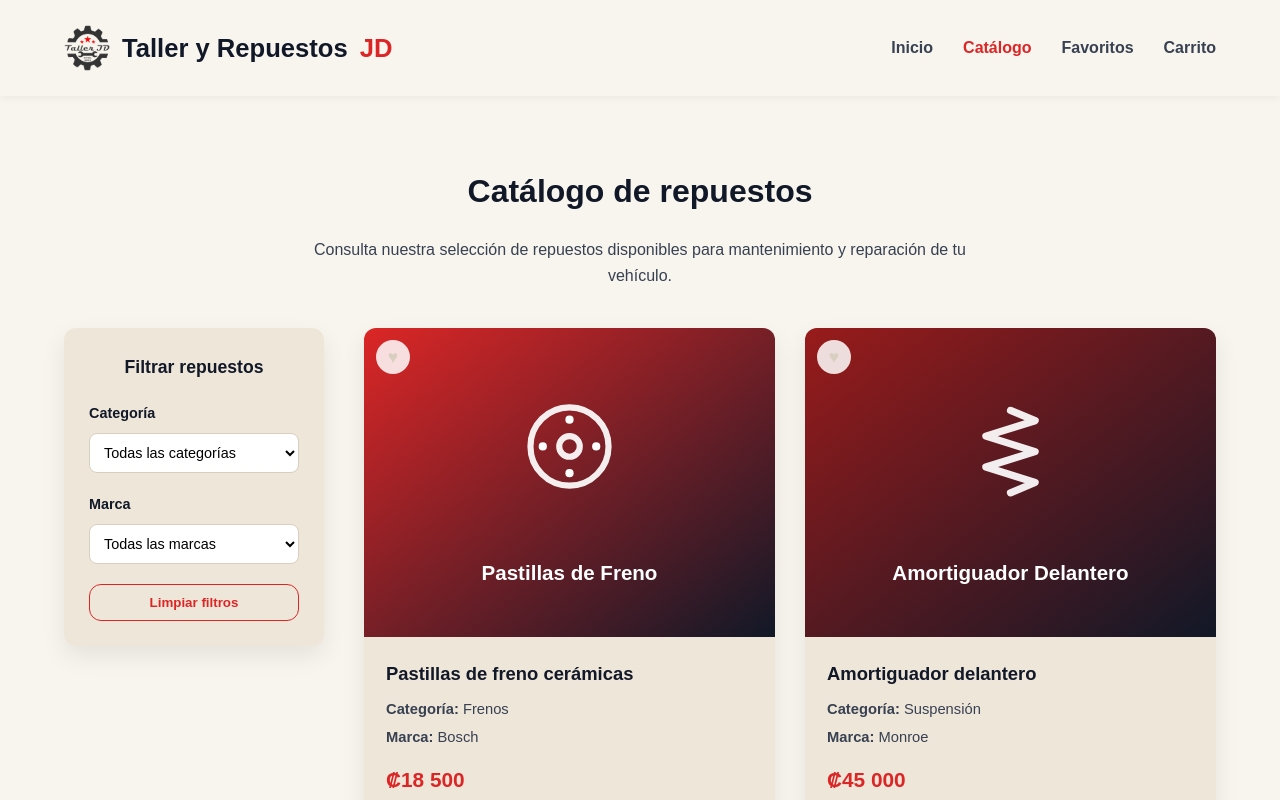
it: Catálogo de repuestos › combinar categoría y marca sin coincidencias muestra un mensaje
The image size is (1280, 800).
Select "Frenos" in the dropdown labelled "Categoría" at coordinates (194, 453), box x1=89 y1=433 x2=299 y2=473
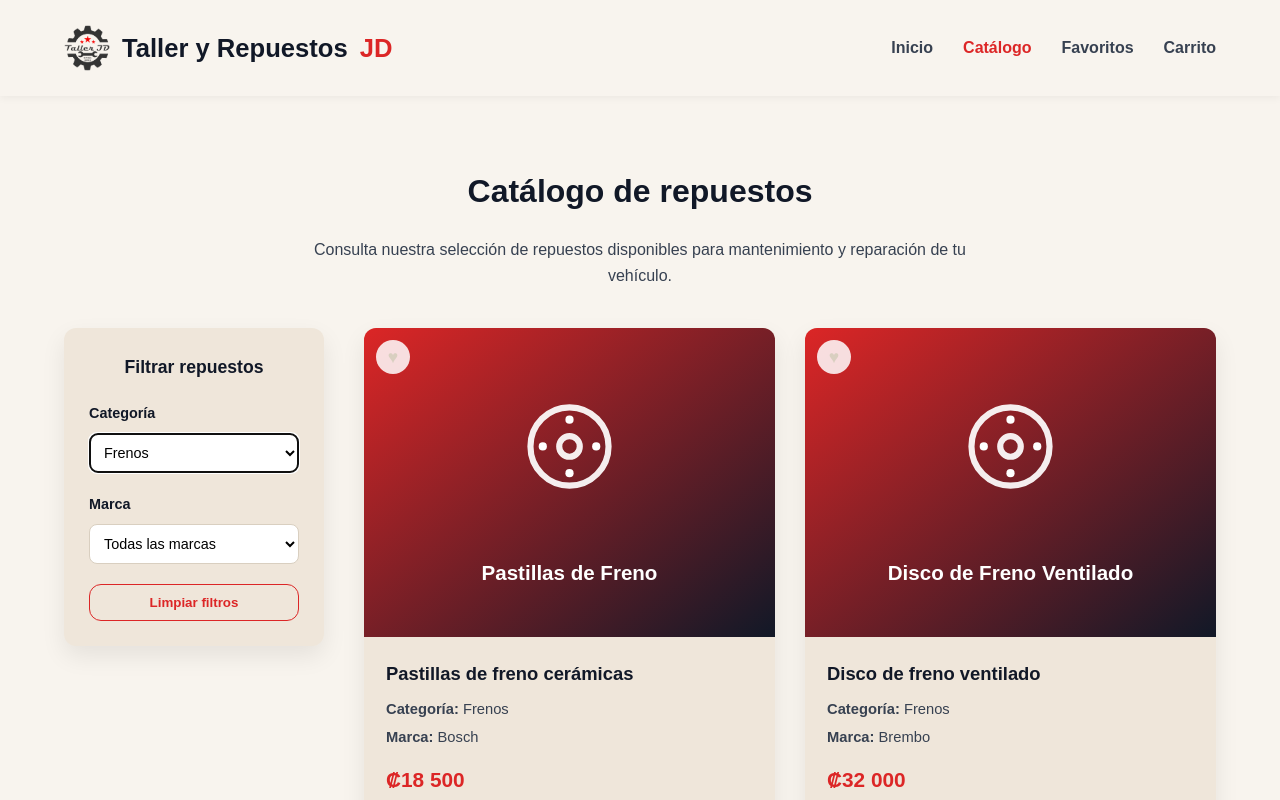
Select "Michelin" in the dropdown labelled "Marca" at coordinates (194, 544), box x1=89 y1=524 x2=299 y2=564
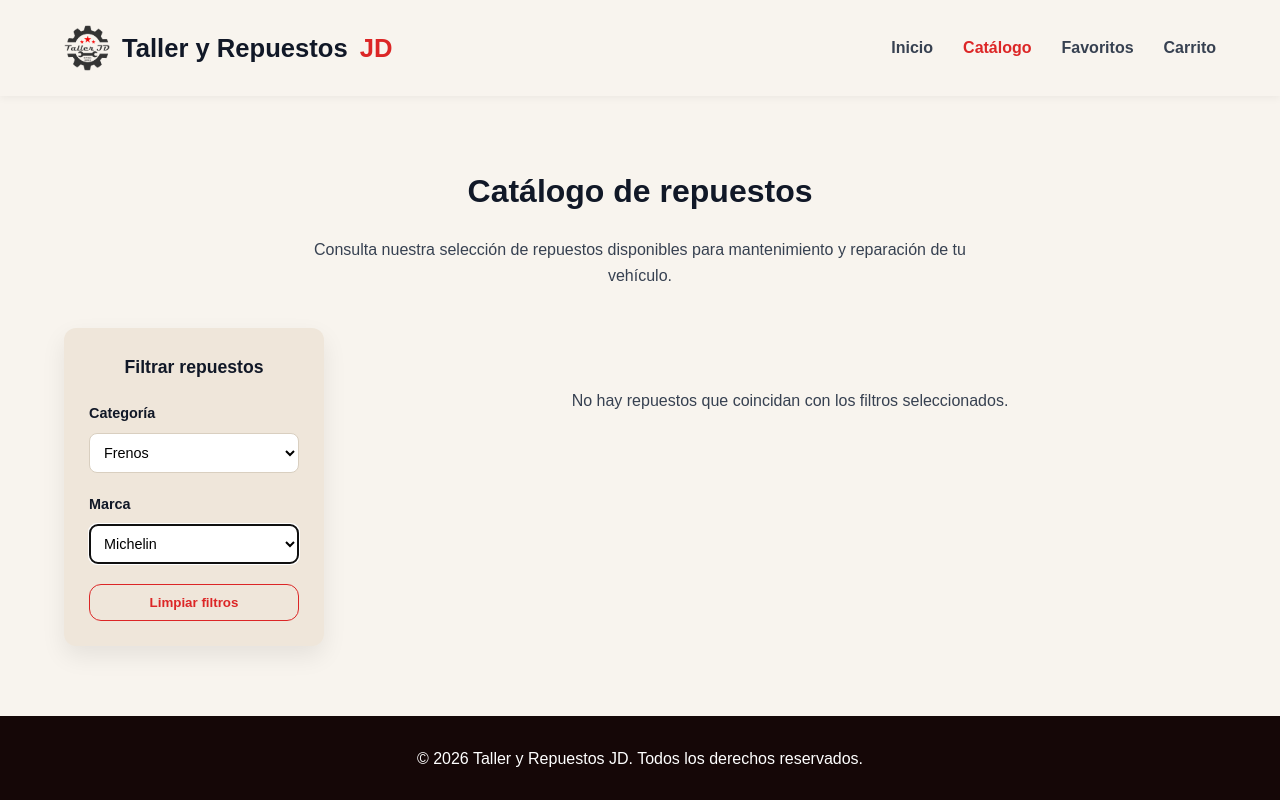
Check: the text "No hay repuestos que coincidan con los filtros seleccionados." is shown, box x1=572 y1=392 x2=1008 y2=409
